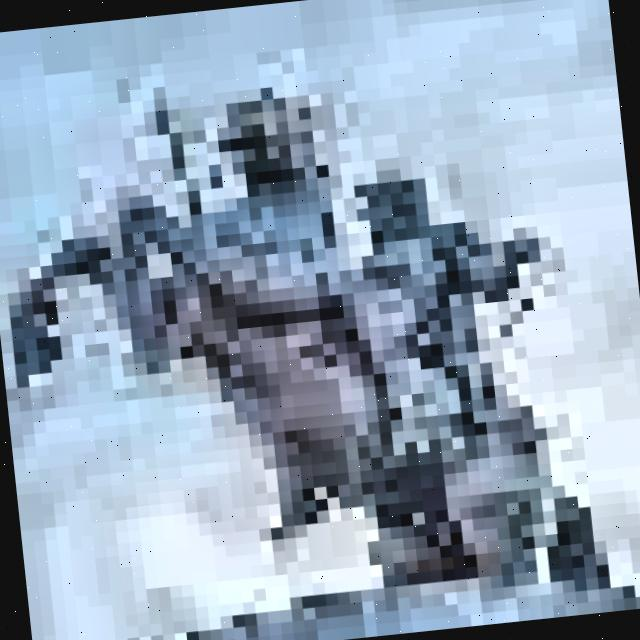alexander the great monument: (0, 21, 623, 640)
